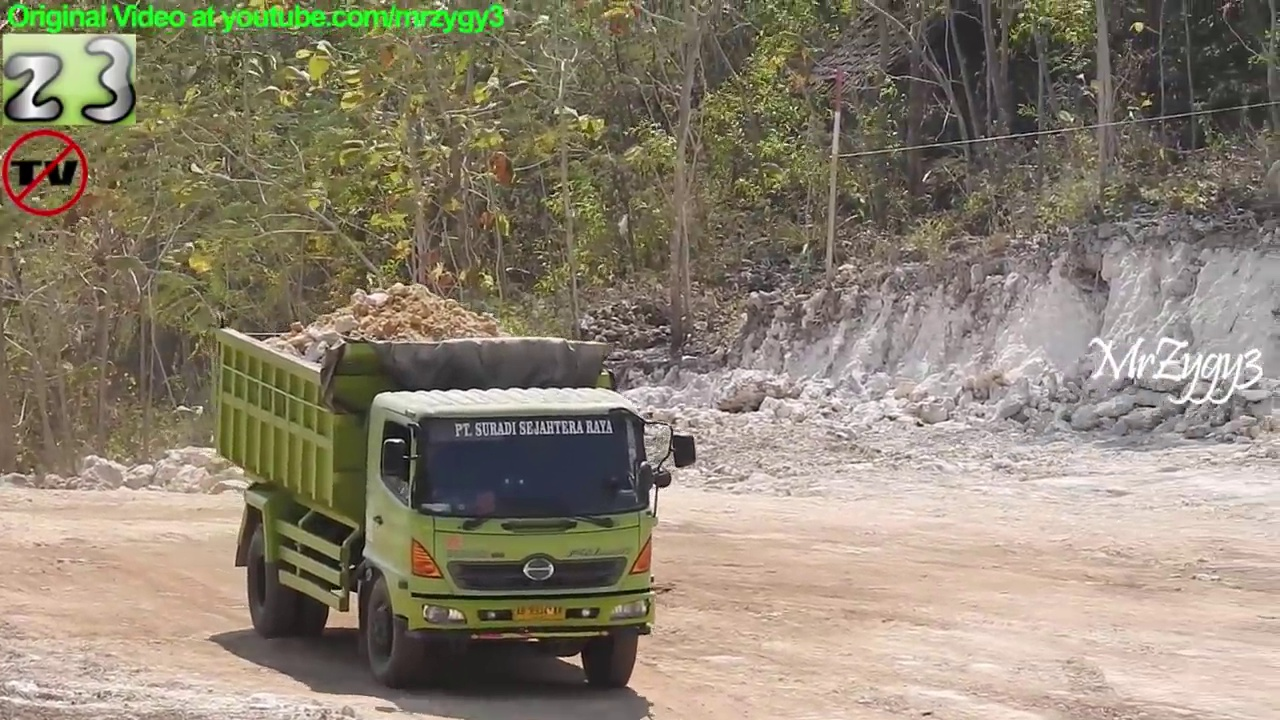truck: (210, 307, 702, 698)
